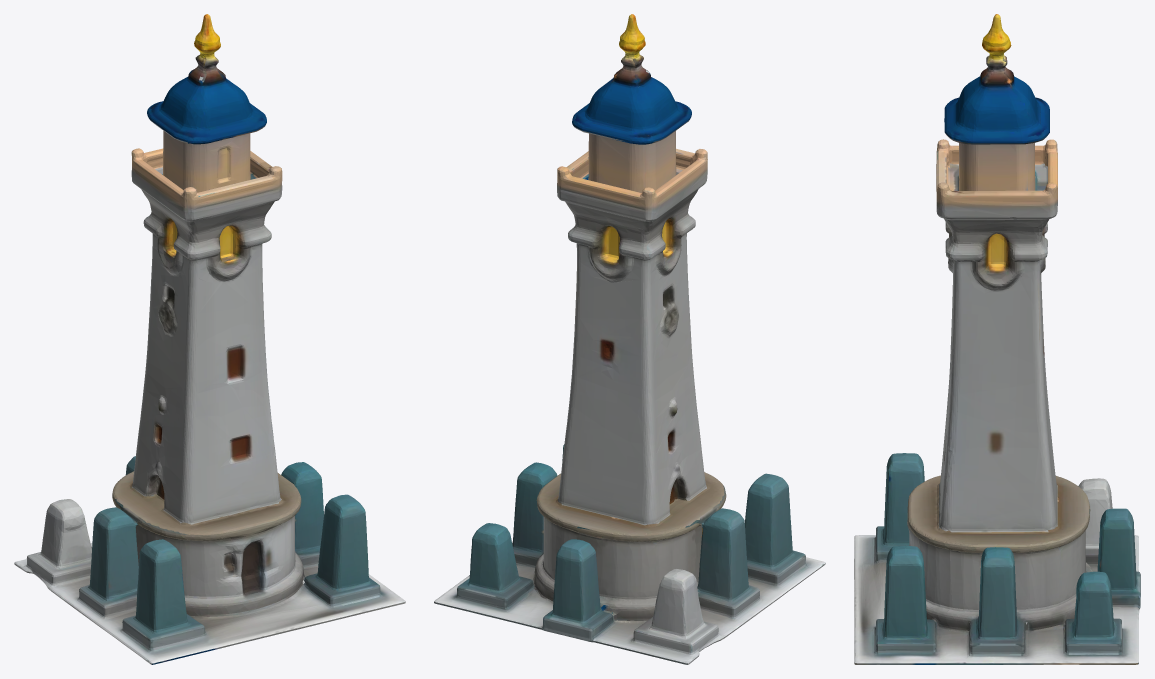
Rendered from harbor_lighthouse.glb.
3 views of the same model, side by side, from view 1: azimuth 30°, elevation 25°; view 2: azimuth 150°, elevation 25°; view 3: azimuth 270°, elevation 25° (orthographic). The views are drawn at different scales.
Parts seen in each view (by area): view 1: tmpn5hw2t40.ply; view 2: tmpn5hw2t40.ply; view 3: tmpn5hw2t40.ply.
Part boxes in pixels (x1,y1,x2,y2): tmpn5hw2t40.ply: (14, 14, 405, 664); tmpn5hw2t40.ply: (434, 14, 825, 664); tmpn5hw2t40.ply: (854, 14, 1140, 664).
Size of the model in its own units: 0.9341 by 1.99 by 0.8847.
Materials: 1 (1 with a texture image).
